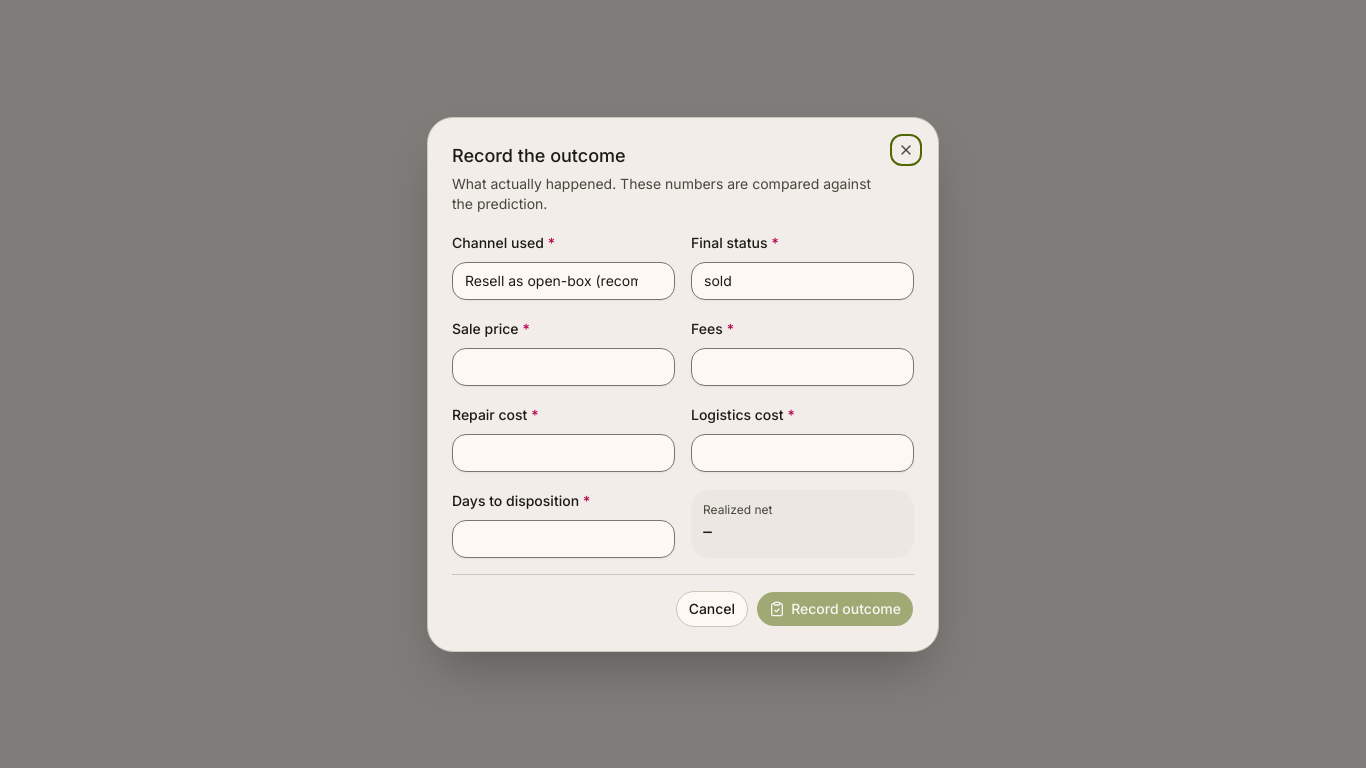
Test case: OutcomeDialog › shows an error when the unit has no decision to link to
Type "1000" into the number field labelled "Sale price*" at (564, 366), box [452,348,675,386]
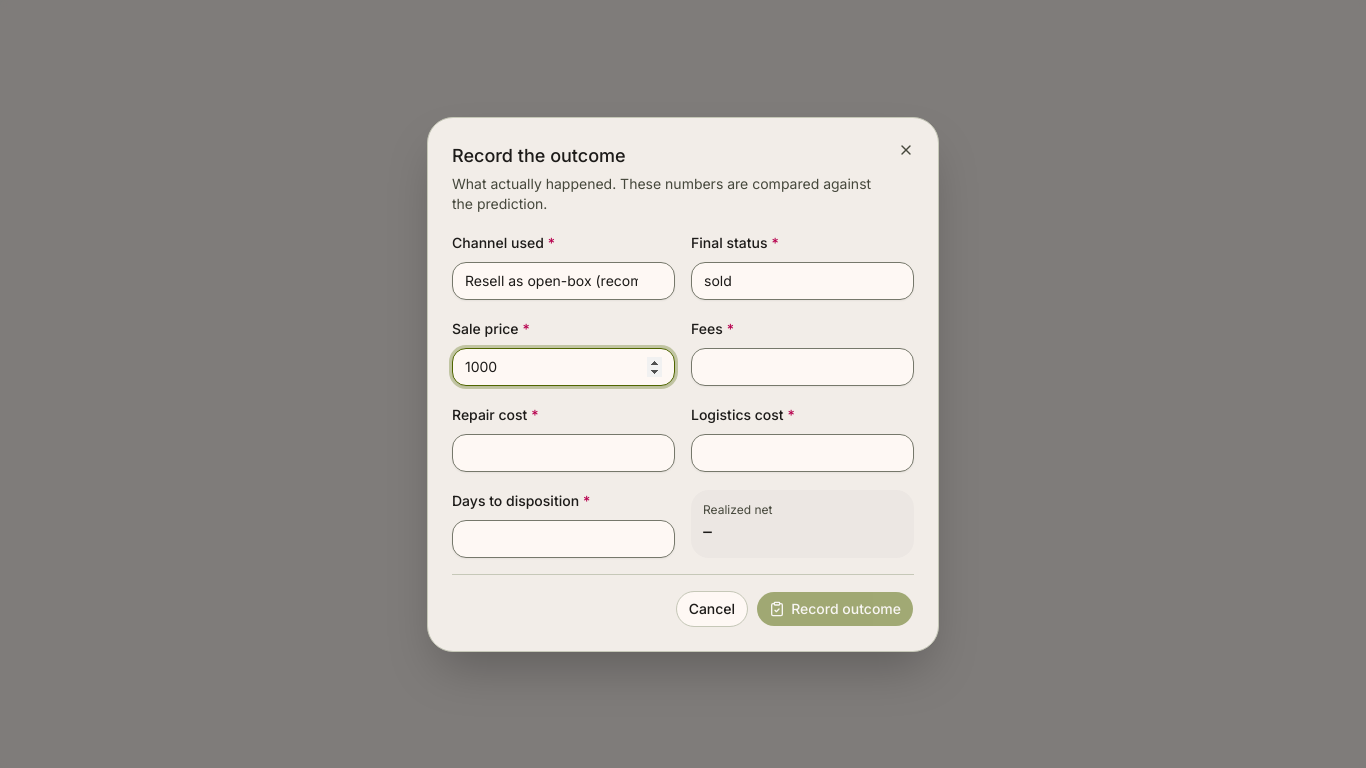
Type "120" into the number field labelled "Fees*" at (802, 366), box [691,348,914,386]
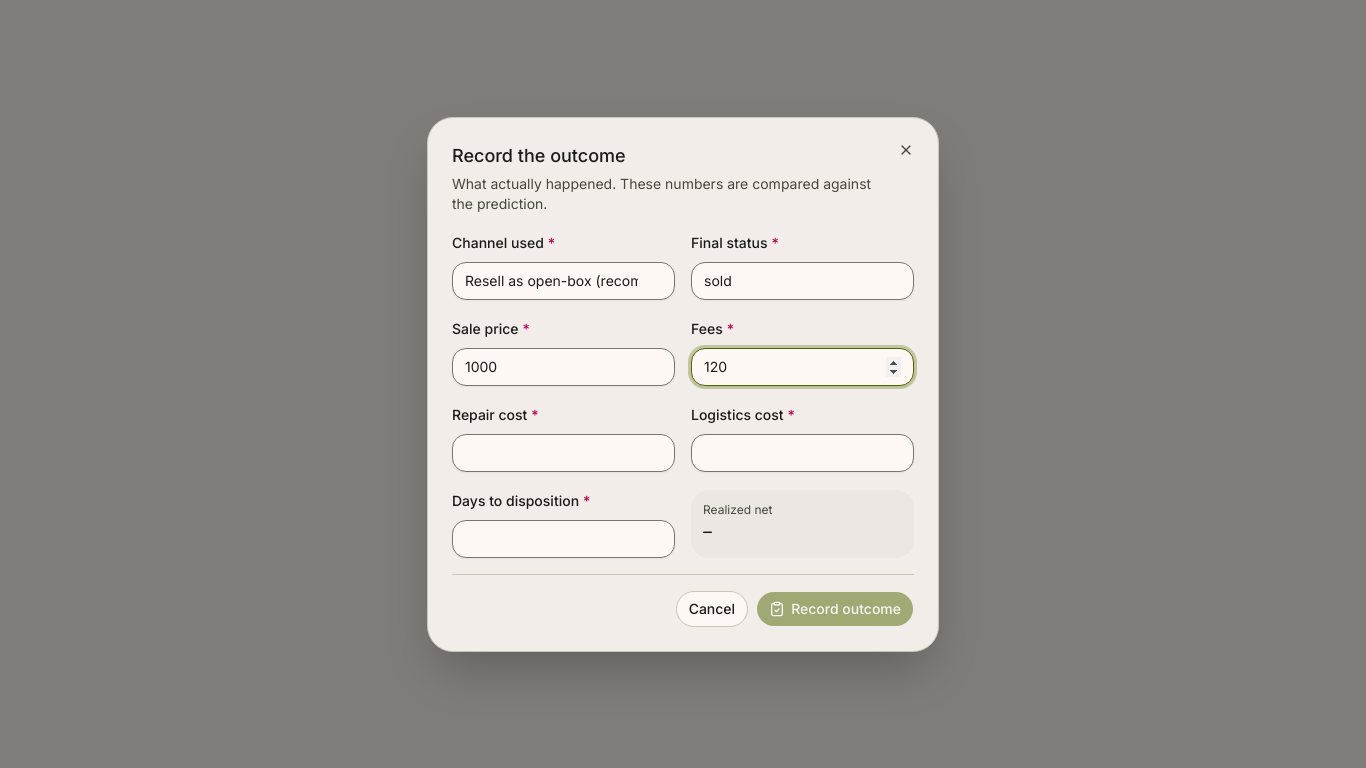
Type "0" into the number field labelled "Repair cost*" at (564, 452), box [452,434,675,472]
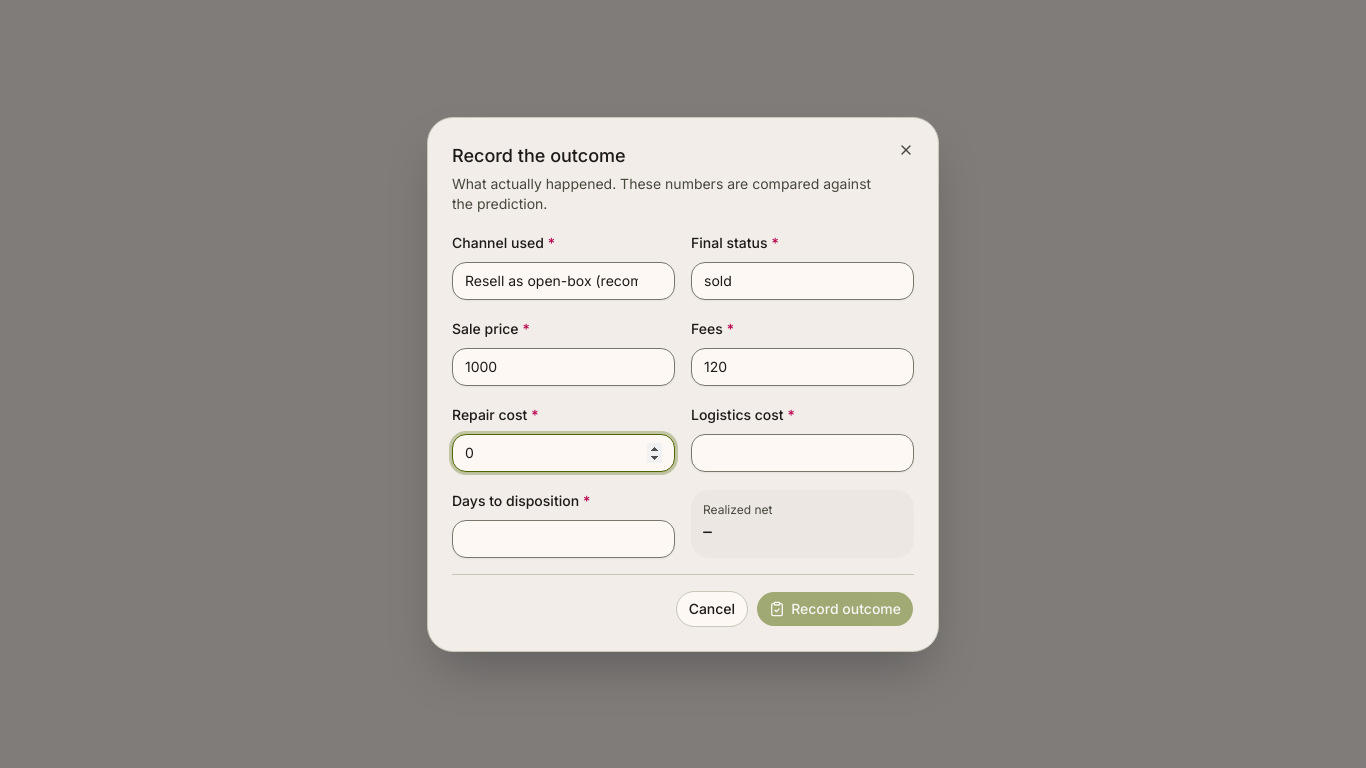
Type "25" into the number field labelled "Logistics cost*" at (802, 452), box [691,434,914,472]
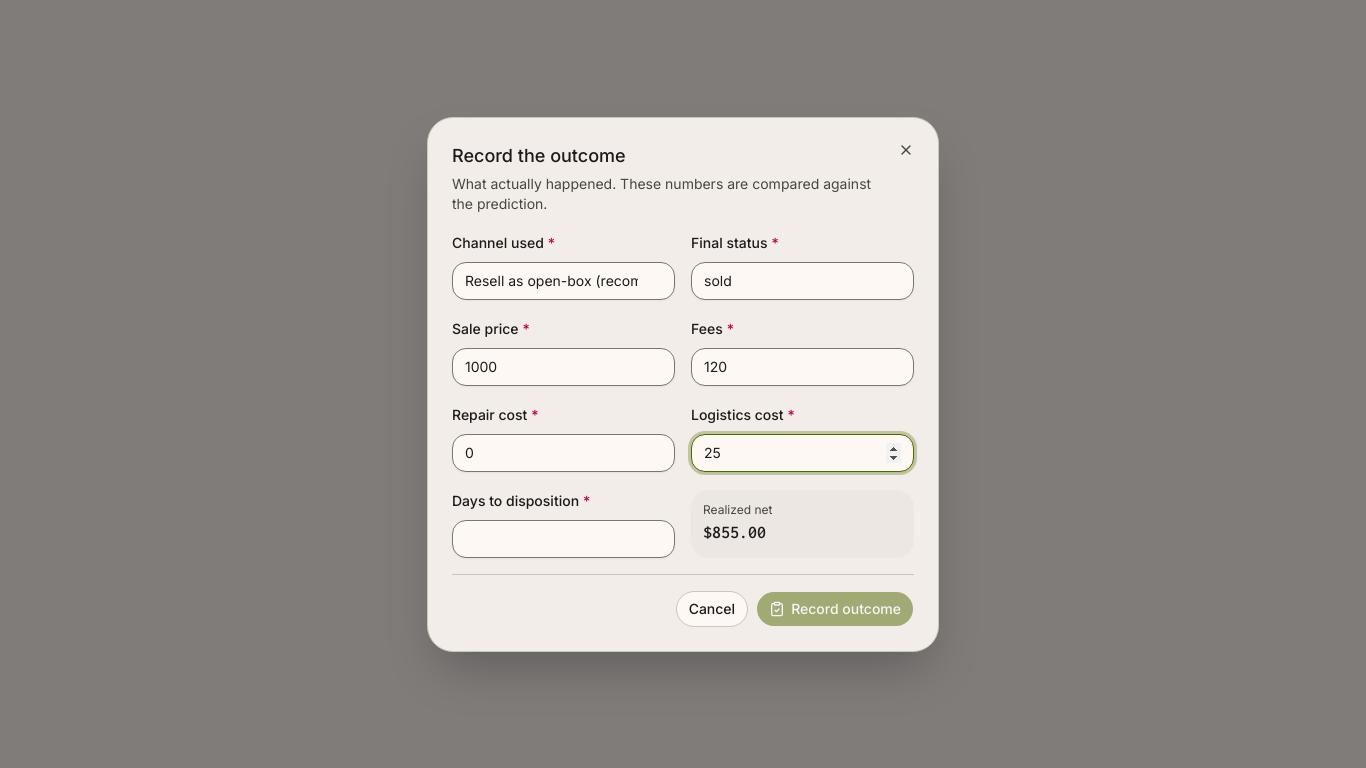
Type "7" into the number field labelled "Days to disposition*" at (564, 538), box [452,520,675,558]
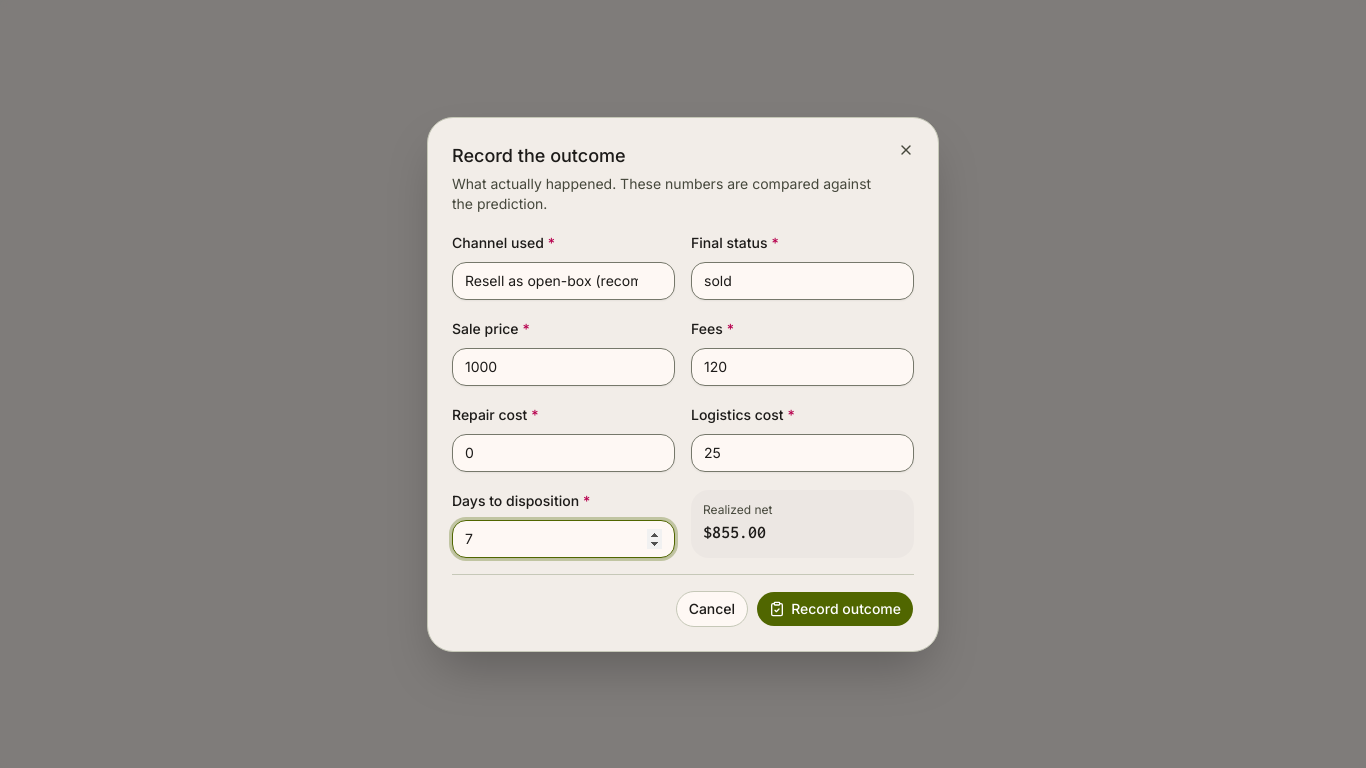
Click the button "Record outcome" at (835, 608), box [756,590,914,626]
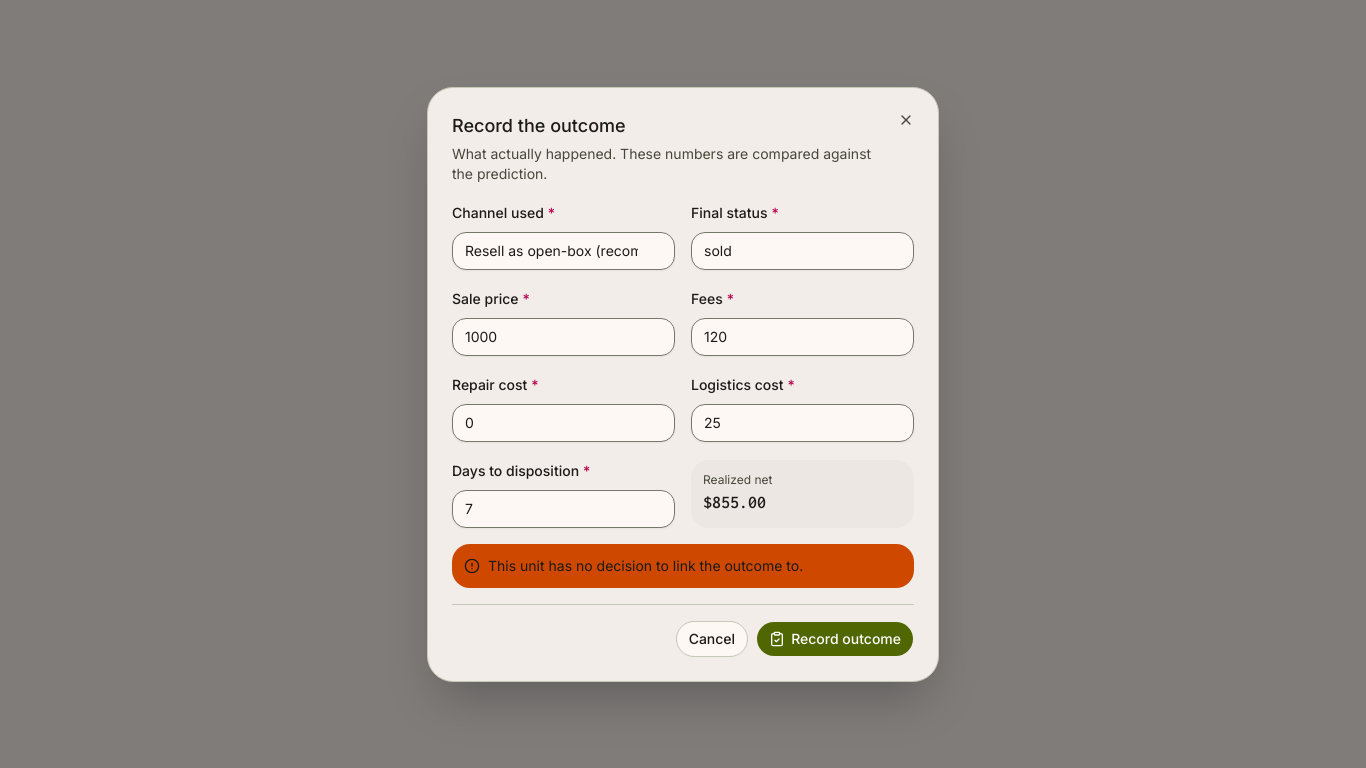
expect the text "This unit has no decision to link the outcome to." is shown: met, box [488,556,803,576]
